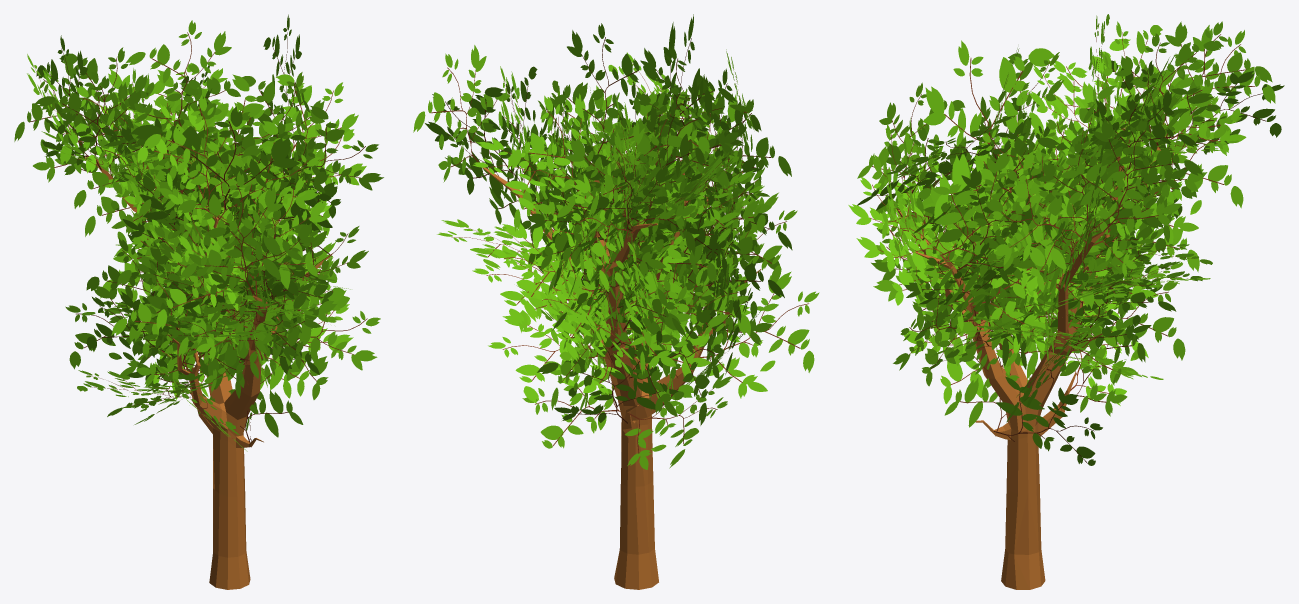
Rendered from tree3.fbx.
The picture shows the model from 3 angles, left to right: view 1: azimuth 30°, elevation 25°; view 2: azimuth 150°, elevation 25°; view 3: azimuth 270°, elevation 25°; orthographic projection. The views are drawn at different scales.
Parts seen in each view (by area): view 1: 圓柱體; view 2: 圓柱體; view 3: 圓柱體.
Boxes of the visible parts, x1,y1,x2,y2 form: 圓柱體: (14, 14, 383, 589); 圓柱體: (413, 14, 819, 589); 圓柱體: (848, 14, 1284, 589).
Bounding box in the file's own units: 1661 × 2809 × 1967.
